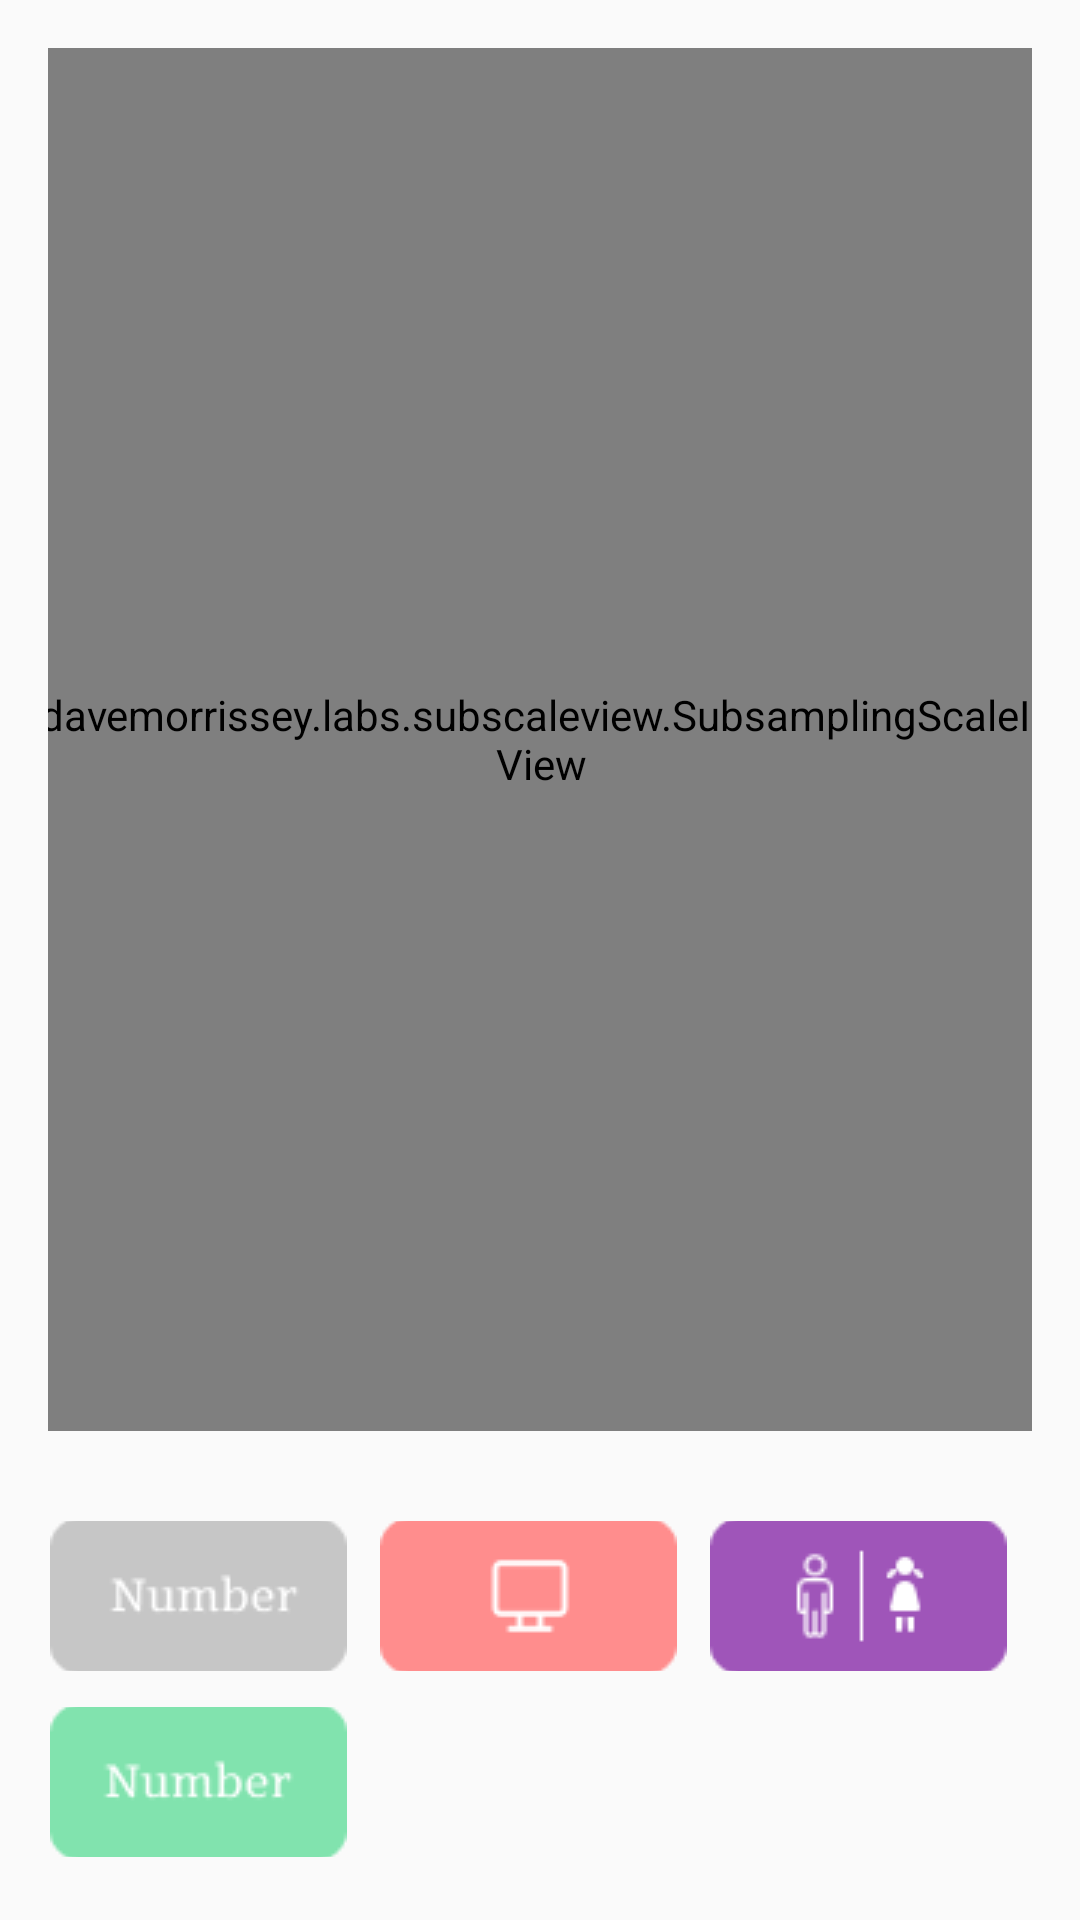

Icon click points for this 1080 x 1920 phone screenshot, format [x,y]:
technical: [528,1596]
toilet: [858,1596]
